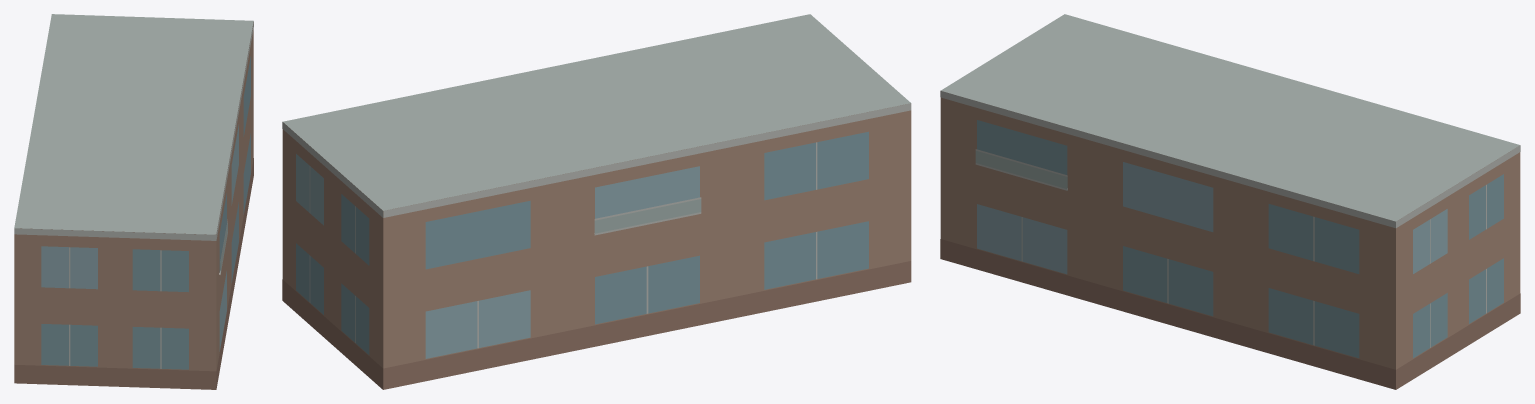
Rendered from survey-upis-32703964.glb.
3 views of the same model, side by side, from view 1: azimuth 30°, elevation 25°; view 2: azimuth 150°, elevation 25°; view 3: azimuth 270°, elevation 25° (orthographic). The views are drawn at different scales.
Visible parts, largest first — view 1: survey-upis-32703964.tmp; view 2: survey-upis-32703964.tmp; view 3: survey-upis-32703964.tmp.
Part boxes in pixels (box(x1,y1,x2,y2)): survey-upis-32703964.tmp: box(14, 14, 253, 389); survey-upis-32703964.tmp: box(282, 14, 911, 389); survey-upis-32703964.tmp: box(940, 14, 1520, 389).
Bounding box in the file's own units: 16.15 × 6.1 × 19.06.
